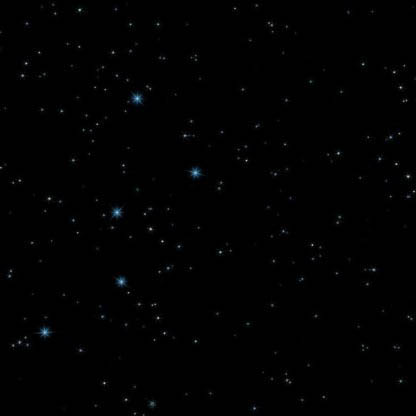Cassiopeia: (102, 195, 131, 227), (122, 82, 152, 109), (30, 322, 56, 345), (108, 269, 130, 294), (180, 163, 205, 182)
